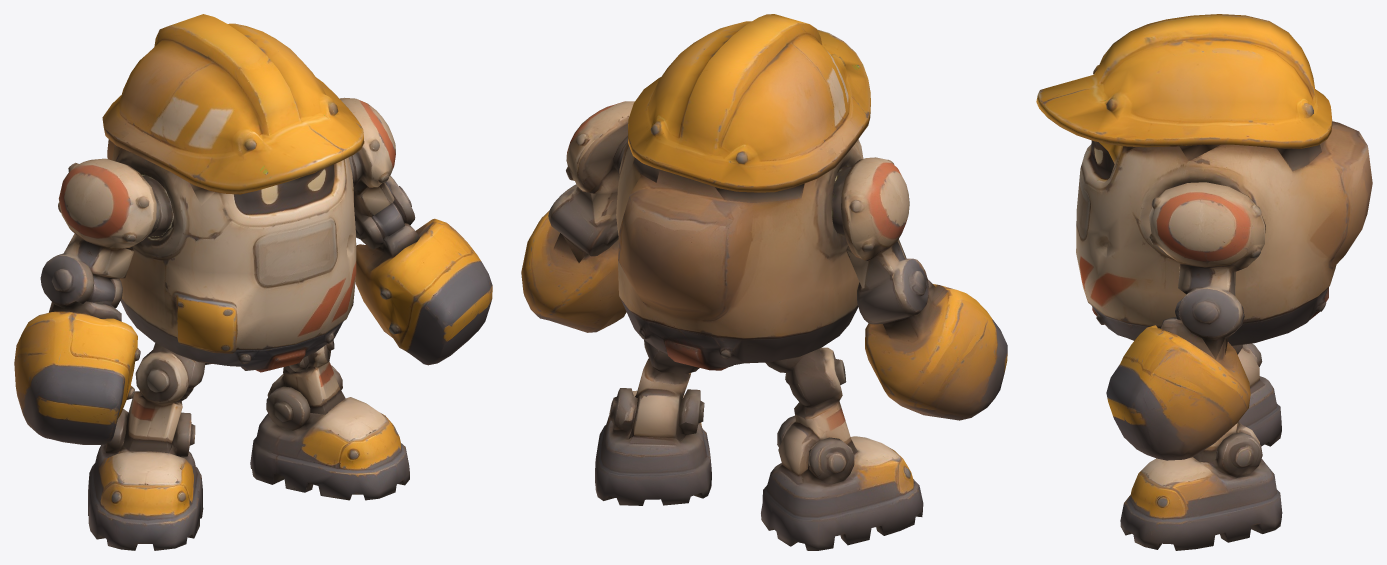
The model's file is Original.glb.
The picture shows the model from 3 angles, left to right: view 1: azimuth 30°, elevation 25°; view 2: azimuth 150°, elevation 25°; view 3: azimuth 270°, elevation 25°; orthographic projection. The views are drawn at different scales.
Parts seen in each view (by area): view 1: tripo_part_0, tripo_part_3, tripo_part_6, tripo_part_7, tripo_part_4, tripo_part_2, tripo_part_5, tripo_part_1, tripo_part_8, tripo_part_9; view 2: tripo_part_0, tripo_part_3, tripo_part_6, tripo_part_5, tripo_part_2, tripo_part_4, tripo_part_1, tripo_part_7, tripo_part_8, tripo_part_9; view 3: tripo_part_0, tripo_part_3, tripo_part_7, tripo_part_4, tripo_part_1, tripo_part_5, tripo_part_9, tripo_part_8.
Part boxes in pixels (x1,y1,x2,y2): tripo_part_0: (107, 139, 356, 372); tripo_part_3: (102, 14, 364, 205); tripo_part_6: (14, 300, 140, 444); tripo_part_7: (355, 218, 492, 365); tripo_part_4: (250, 365, 409, 500); tripo_part_2: (40, 158, 173, 308); tripo_part_5: (88, 409, 203, 550); tripo_part_1: (340, 97, 415, 249); tripo_part_8: (123, 343, 211, 453); tripo_part_9: (267, 340, 345, 414); tripo_part_0: (616, 142, 863, 370); tripo_part_3: (628, 14, 870, 202); tripo_part_6: (865, 279, 1007, 420); tripo_part_5: (761, 415, 923, 550); tripo_part_2: (831, 157, 928, 324); tripo_part_4: (595, 388, 711, 505); tripo_part_1: (548, 101, 634, 262); tripo_part_7: (521, 210, 626, 332); tripo_part_8: (765, 347, 857, 475); tripo_part_9: (633, 340, 699, 438); tripo_part_0: (1076, 121, 1372, 345); tripo_part_3: (1036, 14, 1332, 171); tripo_part_7: (1106, 317, 1250, 460); tripo_part_4: (1120, 432, 1282, 550); tripo_part_1: (1148, 182, 1265, 359); tripo_part_5: (1239, 343, 1281, 446); tripo_part_9: (1193, 344, 1259, 461); tripo_part_8: (1238, 347, 1259, 386).
Bounding box in the file's own units: 0.9995 × 0.9702 × 0.6558.
Materials: 13 (13 with a texture image).
